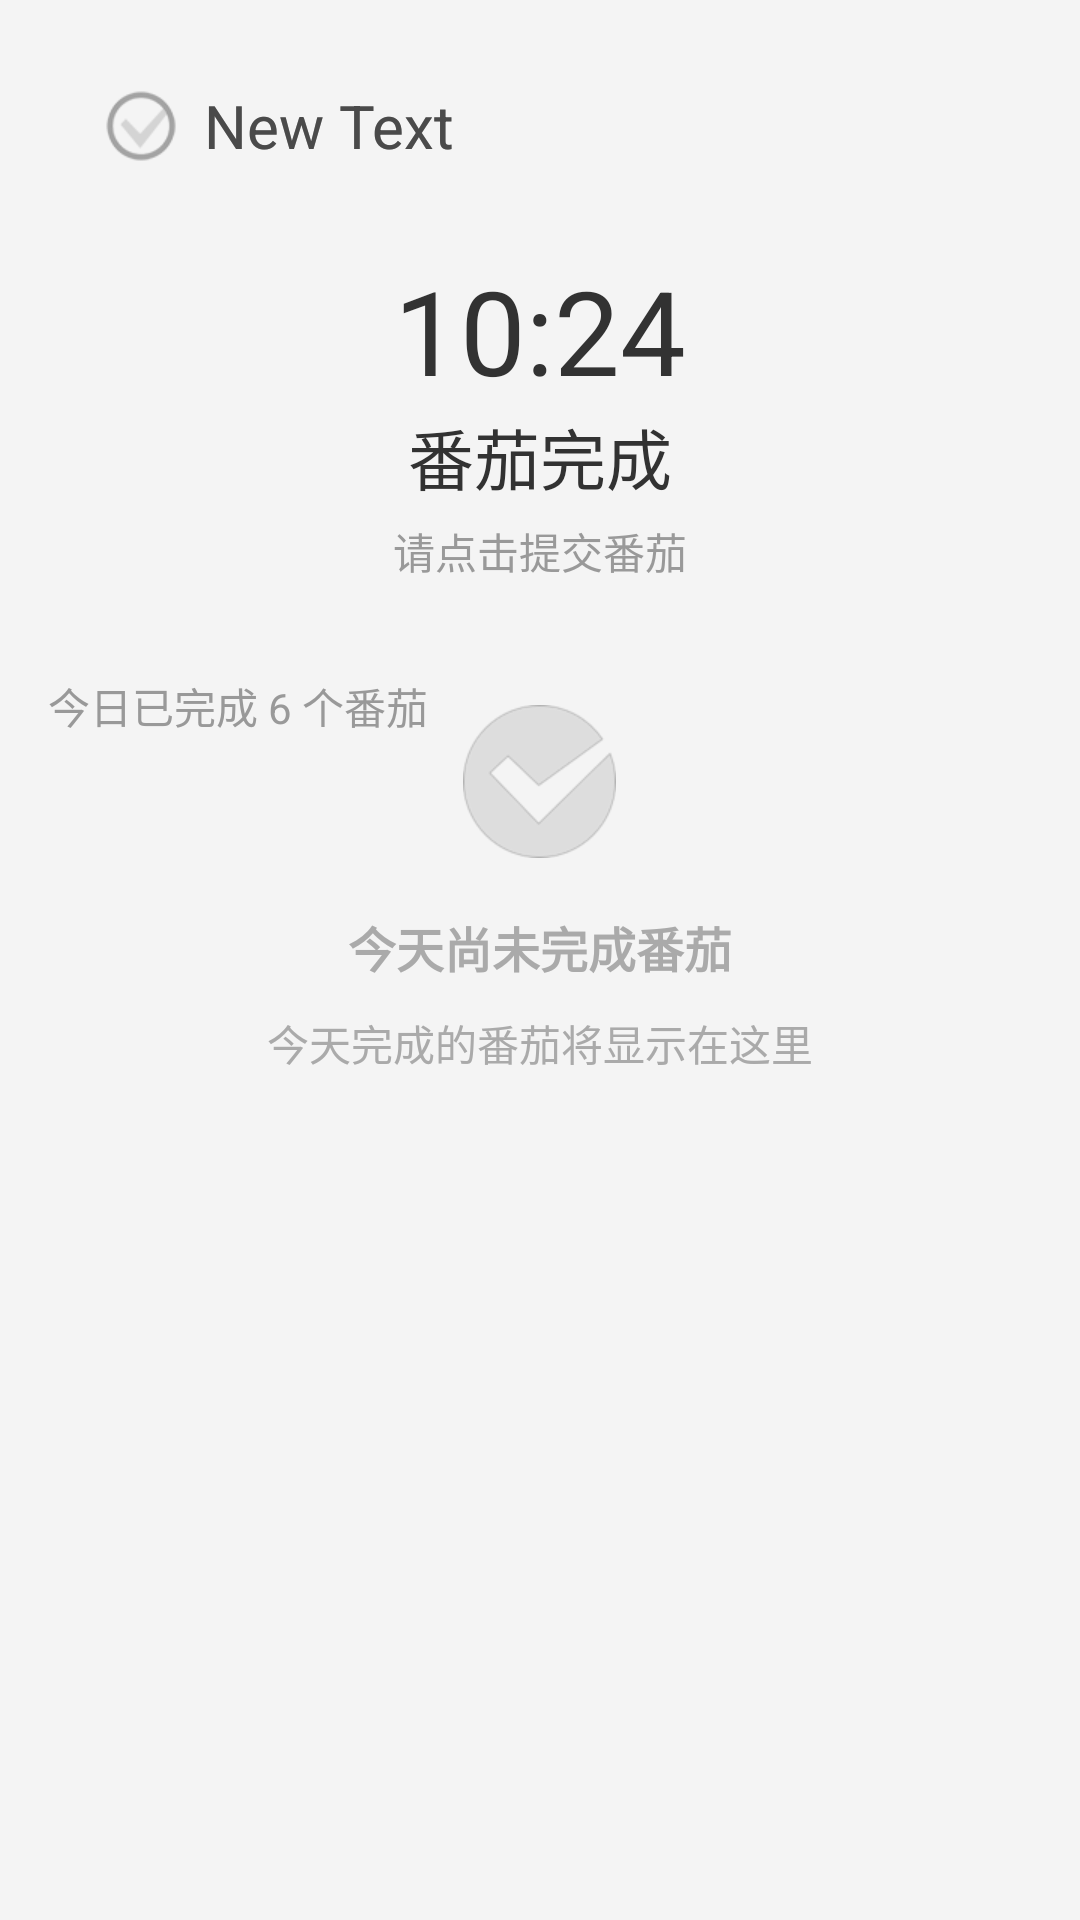

Where icons sit on this 1080 x 1920 app screen, as bbox(x1, y1, x2, y2):
empty running view: bbox(463, 705, 616, 858)
